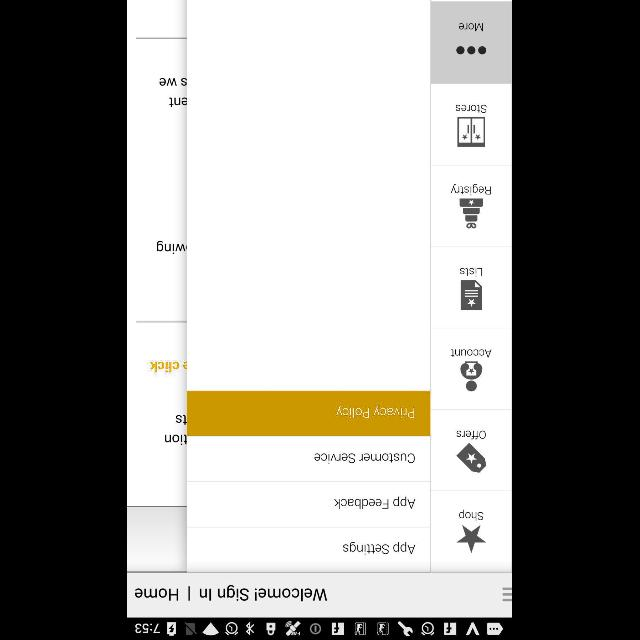icon: (457, 442, 487, 472), (458, 116, 486, 148), (457, 524, 487, 552), (460, 198, 484, 228), (461, 361, 484, 392), (461, 280, 483, 310), (457, 44, 488, 56), (503, 586, 512, 602)
panel: (188, 1, 512, 572)
text: (135, 584, 329, 604), (316, 453, 416, 465), (336, 496, 416, 510), (336, 406, 416, 420), (344, 541, 416, 555), (452, 183, 492, 195), (451, 348, 493, 358), (456, 104, 488, 114), (457, 430, 487, 440), (460, 509, 484, 521), (459, 22, 485, 32), (460, 268, 484, 276)
toolbar: (128, 572, 512, 618)
uppertaskbar: (128, 617, 512, 639)
